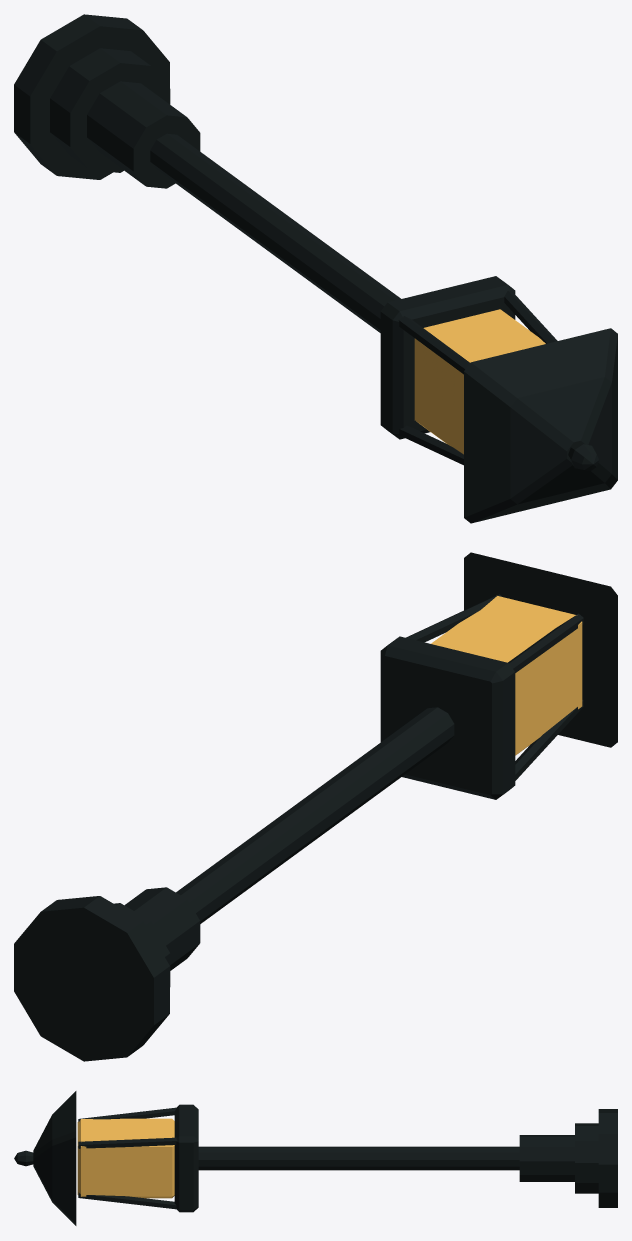
The model's file is HealingLight.obj.
3 renders of one model, top to bottom at view 1: azimuth 30°, elevation 25°; view 2: azimuth 150°, elevation 25°; view 3: azimuth 270°, elevation 25°, orthographic. The views are drawn at different scales.
Parts seen in each view (by area): view 1: HealingLight; view 2: HealingLight; view 3: HealingLight.
Boxes of the visible parts, box(x1,y1,x2,y2) form: HealingLight: box(14, 14, 617, 523); HealingLight: box(14, 552, 617, 1061); HealingLight: box(14, 1091, 617, 1225).
Size of the model in its own units: 44 by 44 by 252.
